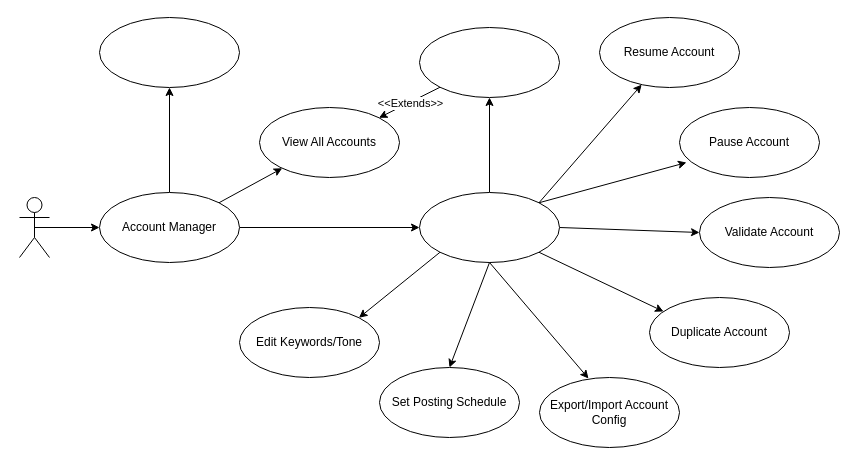
Image size: 857x465. Some labels were removed from this diagram. Here are the shapes that lost their labels. From the top down, the box of each, then its label:
(98, 16, 240, 88): Add New Account
(418, 26, 560, 98): View Account Status
(18, 196, 50, 258): Admin
(418, 192, 560, 262): View/Edit Account
